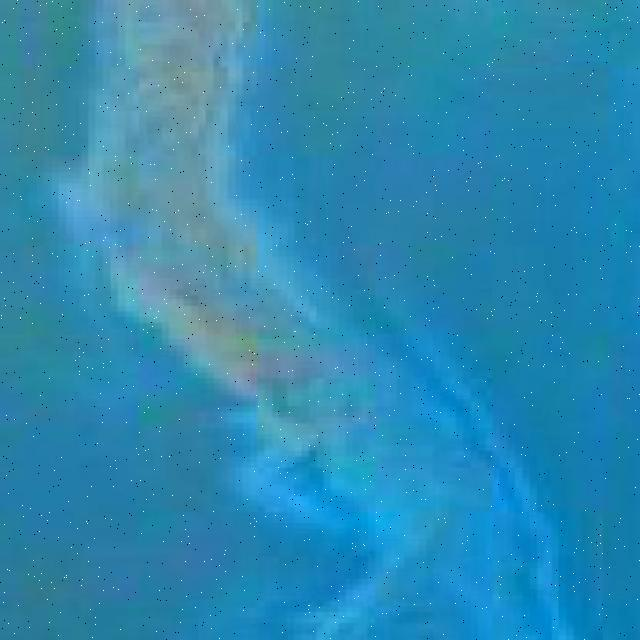oil: (225, 290, 564, 632), (67, 8, 376, 364)
